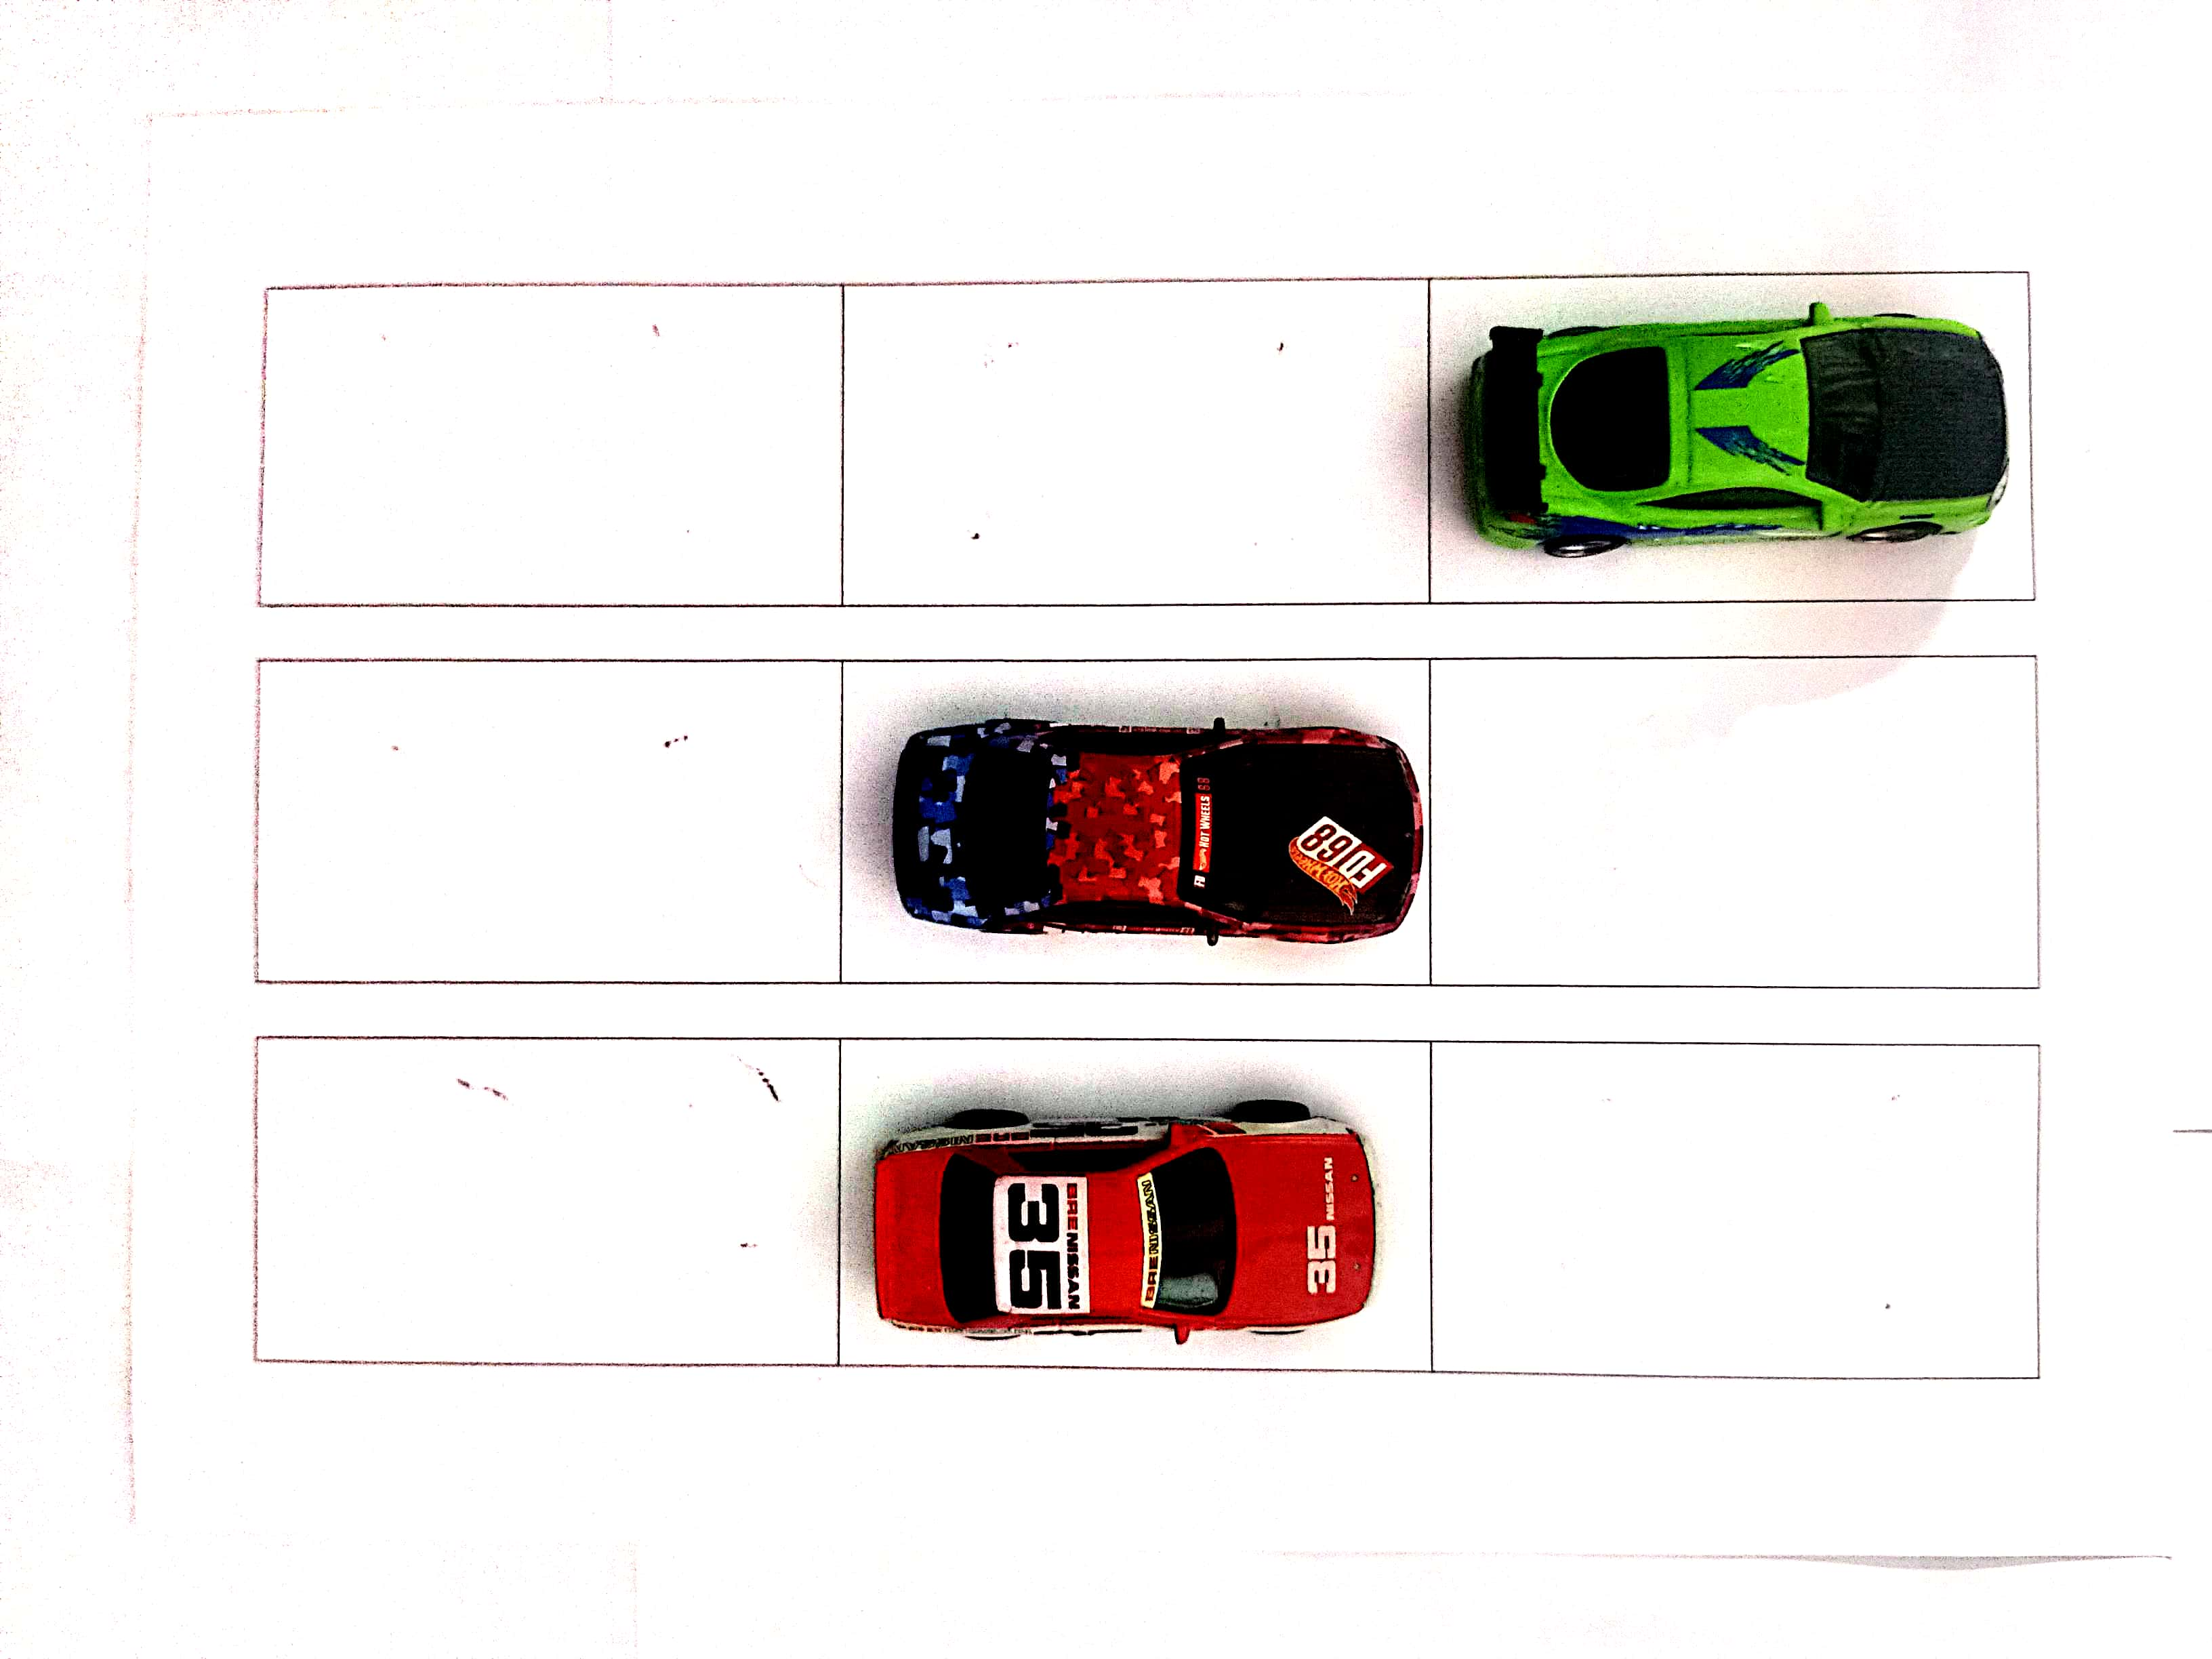Busy: (1433, 270, 2020, 603), (836, 1044, 1423, 1366), (845, 659, 1423, 985)
Free: (1423, 653, 2033, 985), (1425, 1040, 2033, 1366), (261, 1037, 836, 1366), (261, 666, 845, 988), (843, 288, 1425, 601), (268, 289, 836, 603)
